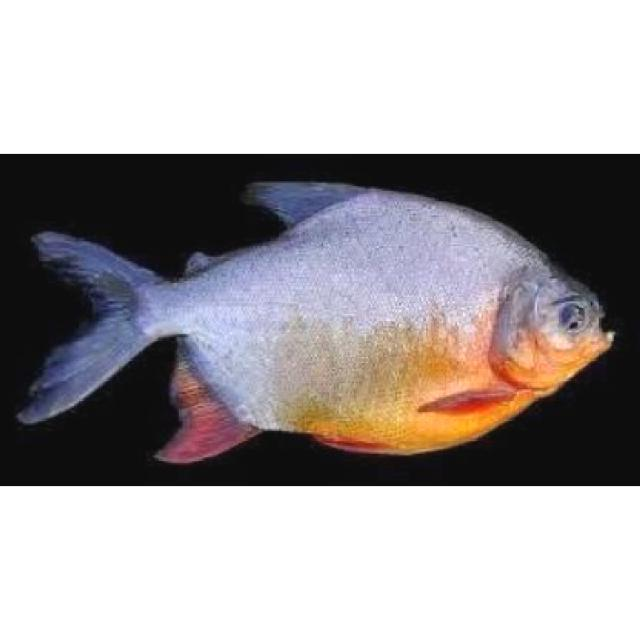ikan-pacu: (30, 182, 616, 456)
